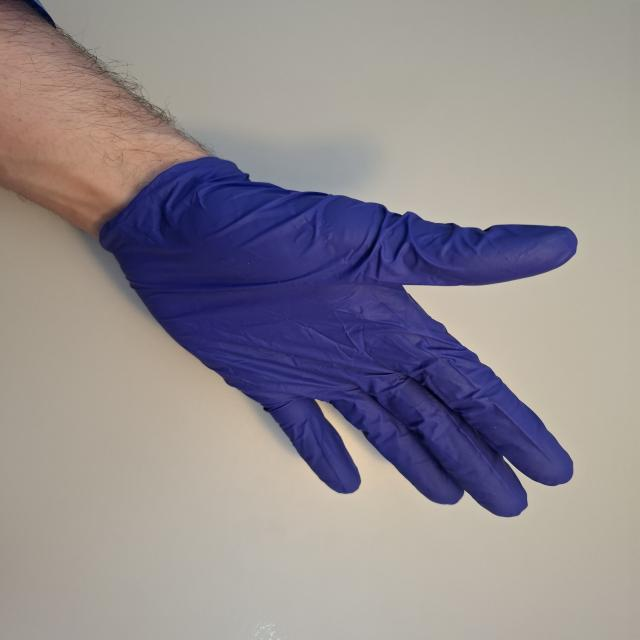glove_on: (93, 153, 580, 514)
